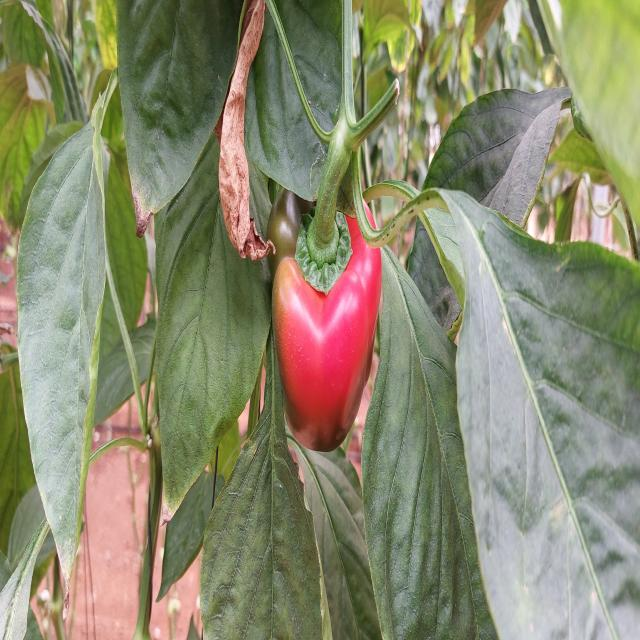BrownishRed--Can-be-Harvested: (260, 146, 386, 474)
